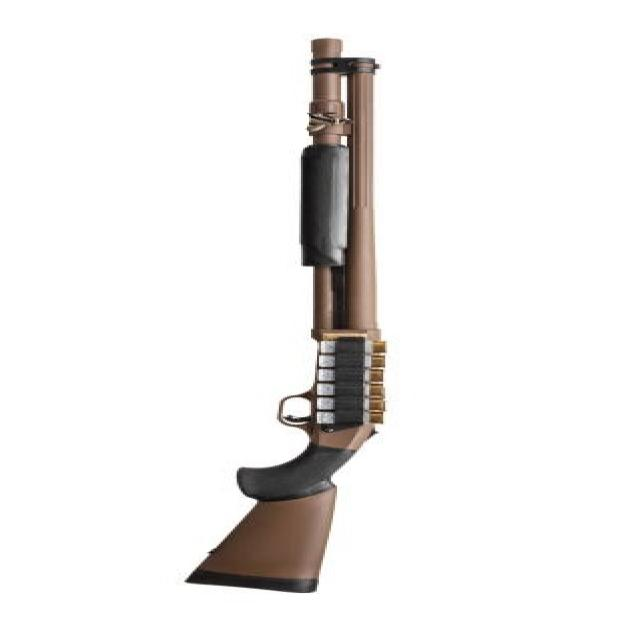rifle: (174, 28, 406, 607)
